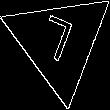L_S: (37, 13, 82, 71)
